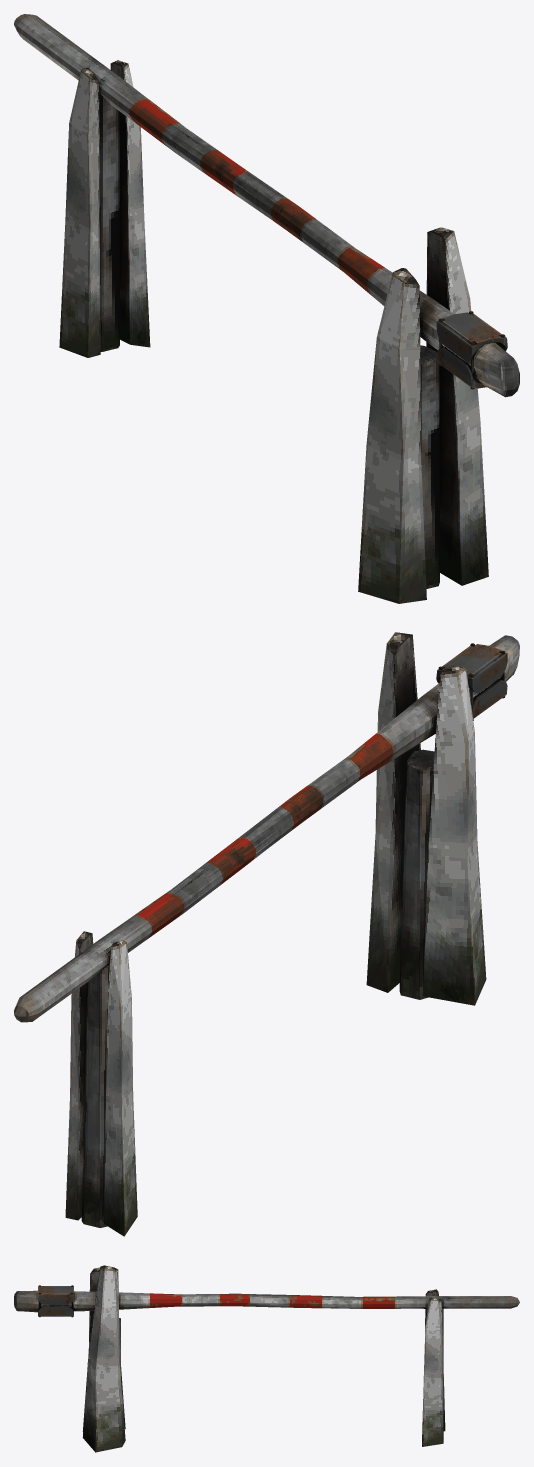
Rendered from Barrier.glb.
3 renders of one model, top to bottom at view 1: azimuth 30°, elevation 25°; view 2: azimuth 150°, elevation 25°; view 3: azimuth 270°, elevation 25°, orthographic. The views are drawn at different scales.
Visible parts, largest first — view 1: Barrier; view 2: Barrier; view 3: Barrier.
Part boxes in pixels (x1,y1,x2,y2): Barrier: (14,14,519,603); Barrier: (14,632,519,1236); Barrier: (14,1265,519,1452).
Bounding box in the file's own units: 1.48 × 4.31 × 11.12.
Materials: 1 (1 with a texture image).
